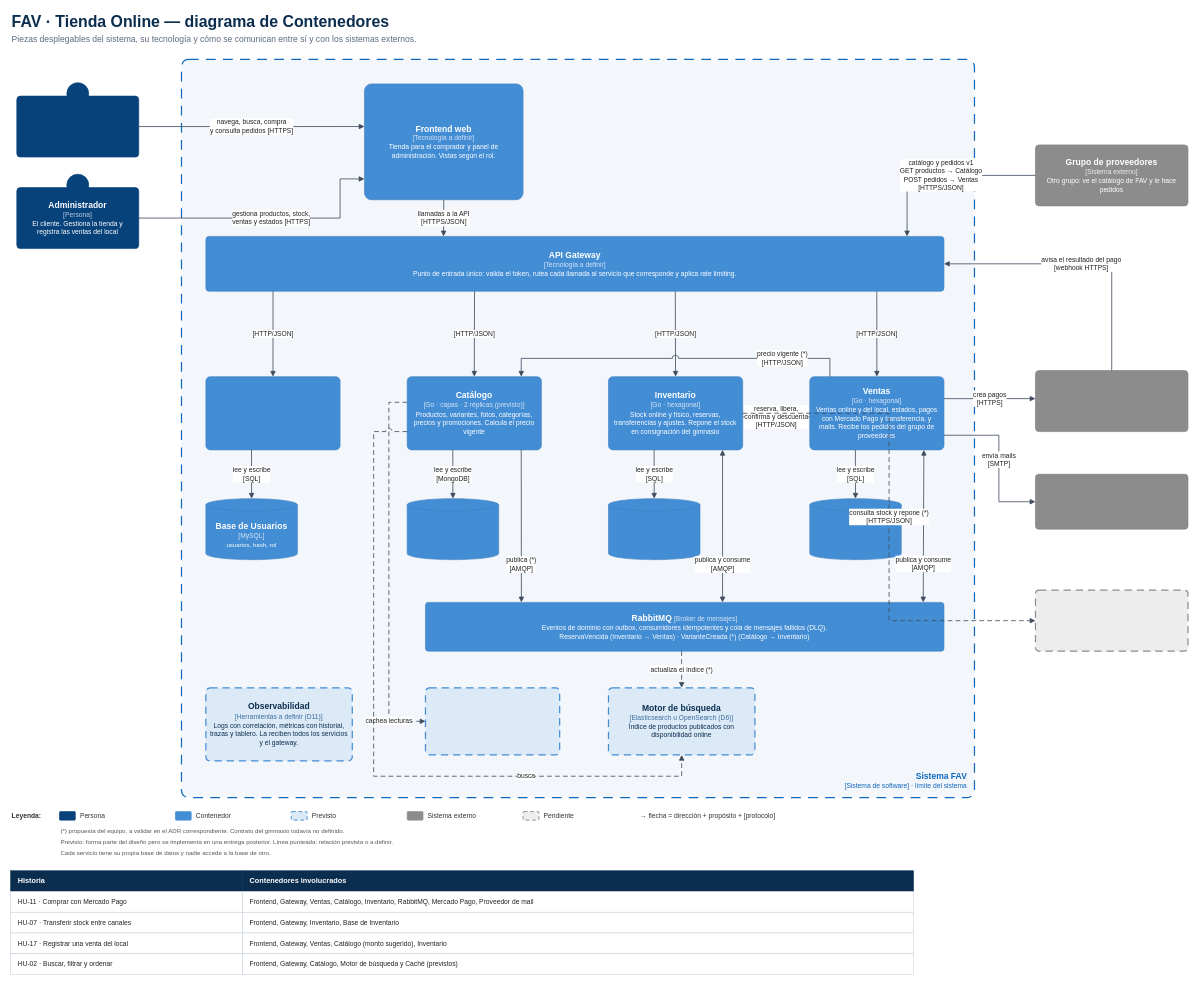
The diagram is 1199 pixels wide and 985 high, and some of its shapes have lost their labels. The centre of each missing label's shape, as x and y in pixels:
Base de Catálogo [MongoDB] productos, variantes, promociones: [453,529]
Base de Inventario [MySQL] stock, reservas, movimientos, reposiciones, outbox: [654,529]
Base de Ventas [MySQL] ventas, pagos, mails, outbox: [855,529]
Caché [Memcached] Lecturas del catálogo: fichas y listados por categoría: [492,721]
Comprador [Persona] Registrado o invitado. Compra online y consulta sus pedidos: [77,126]
Gimnasio [Sistema externo] Otro grupo: vende ropa de FAV en consignación: [1111,620]
Mercado Pago [Sistema externo] Procesa los pagos online y avisa el resultado: [1111,401]
Proveedor de mail [Sistema externo] Entrega los mails (a definir): [1111,501]
Usuarios [Go · capas] Registro, inicio de sesión, emisión del token y roles: [272,413]
